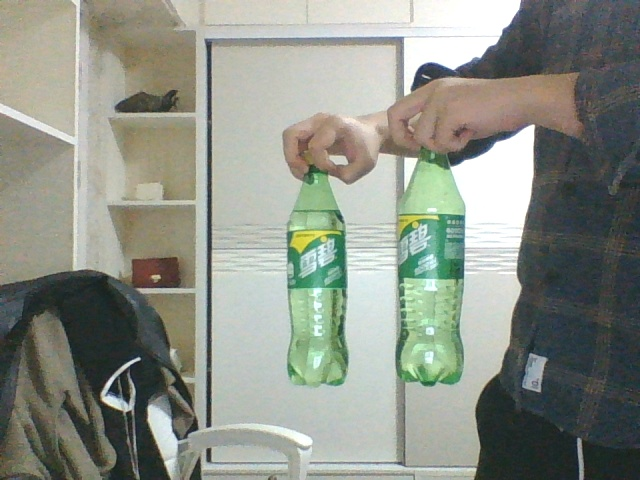Sprite: (395, 143, 466, 384), (287, 149, 349, 386)
